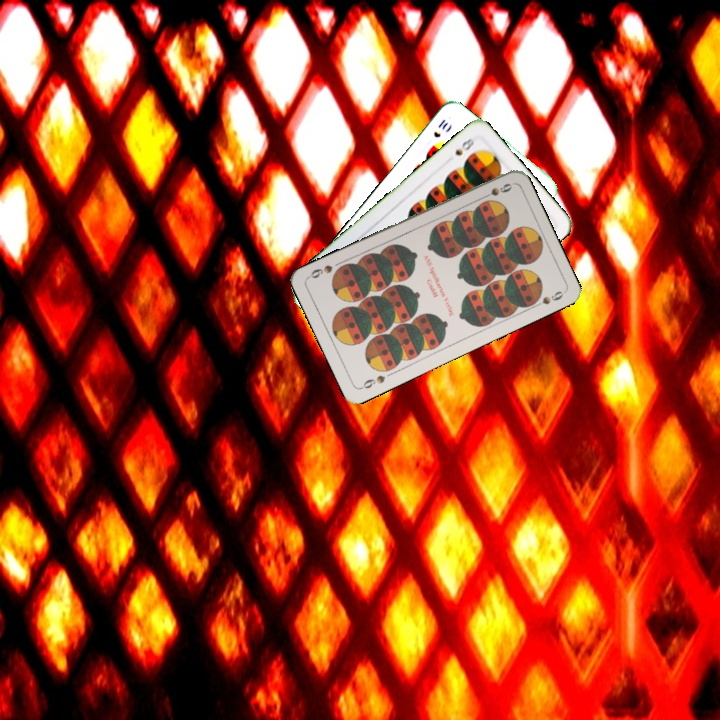S10: (429, 115, 451, 140)
S8: (451, 134, 476, 158)
S9: (476, 179, 515, 202), (357, 371, 388, 392)
